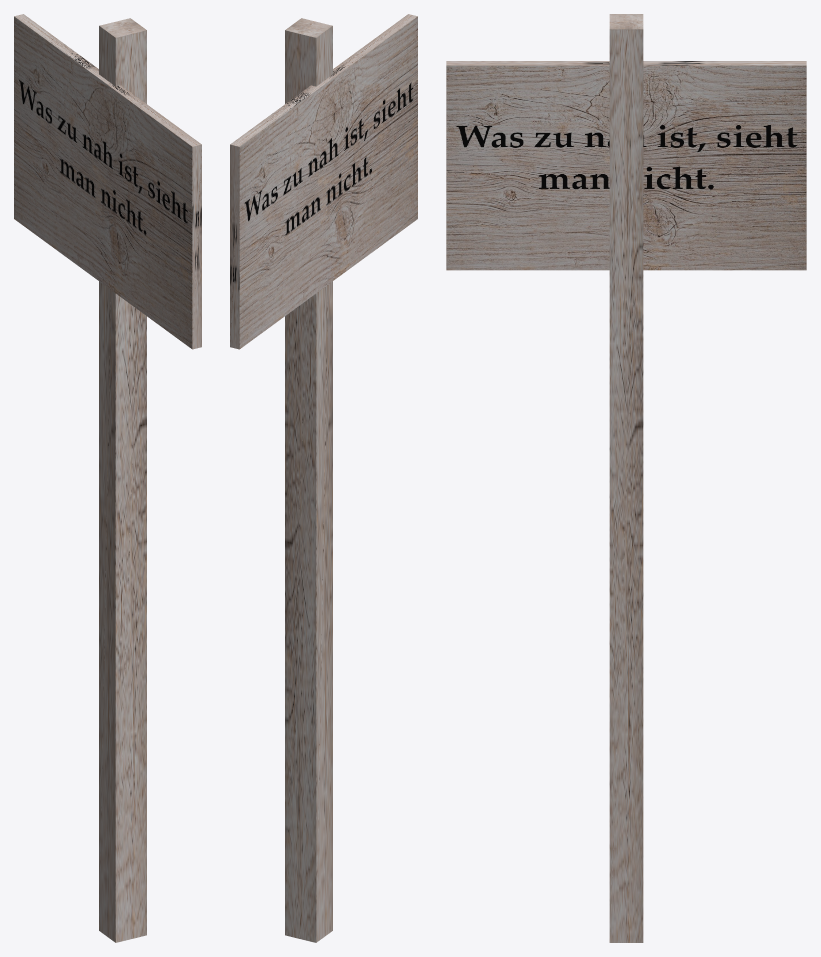
Rendered from Schild Grabzaun.fbx.
The picture shows the model from 3 angles, left to right: view 1: azimuth 30°, elevation 25°; view 2: azimuth 150°, elevation 25°; view 3: azimuth 270°, elevation 25°; orthographic projection.
Visible parts, largest first — view 1: Cube__1_, Cube; view 2: Cube__1_, Cube; view 3: Cube__1_, Cube.
Part boxes in pixels (x1,y1,x2,y2): Cube__1_: (14,14,201,349); Cube: (99,18,146,942); Cube__1_: (230,14,417,349); Cube: (285,18,332,942); Cube__1_: (446,61,806,270); Cube: (609,14,643,942).
Size of the model in its own units: 12.87 by 313 by 112.
